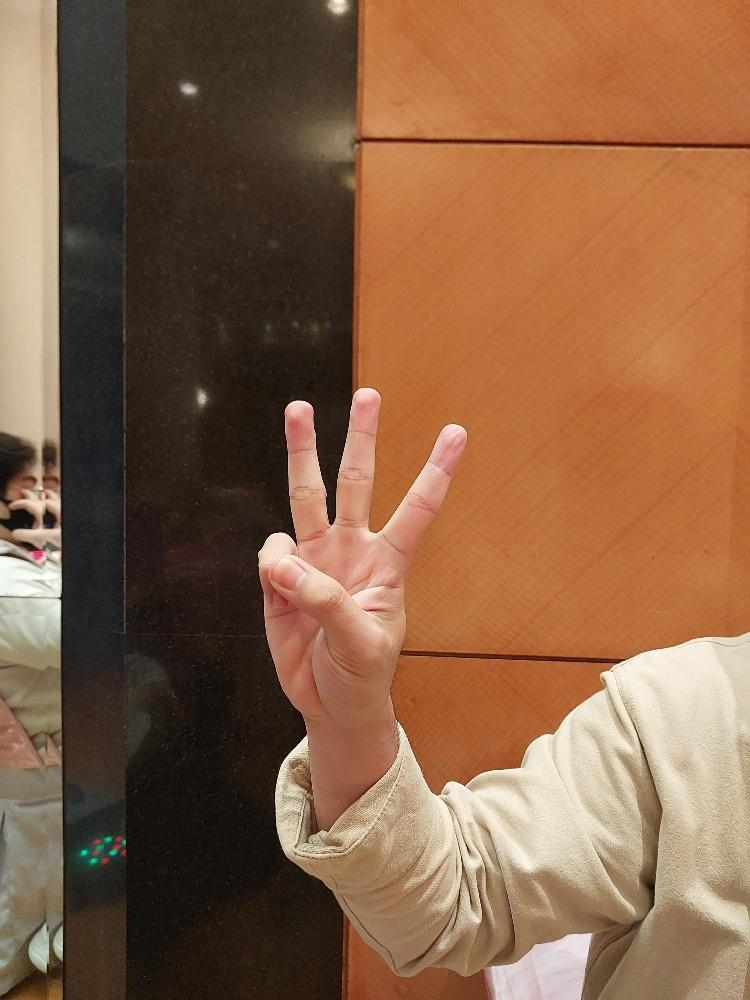w: (253, 381, 471, 728)
